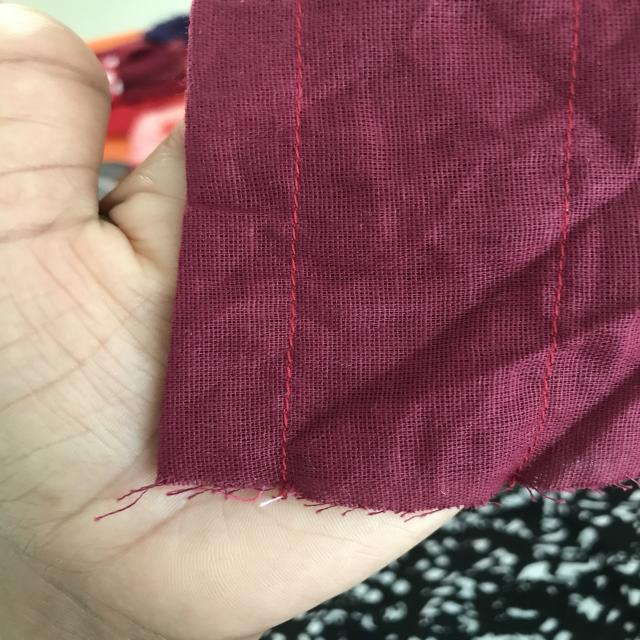good: (280, 94, 324, 225), (561, 52, 587, 170)
